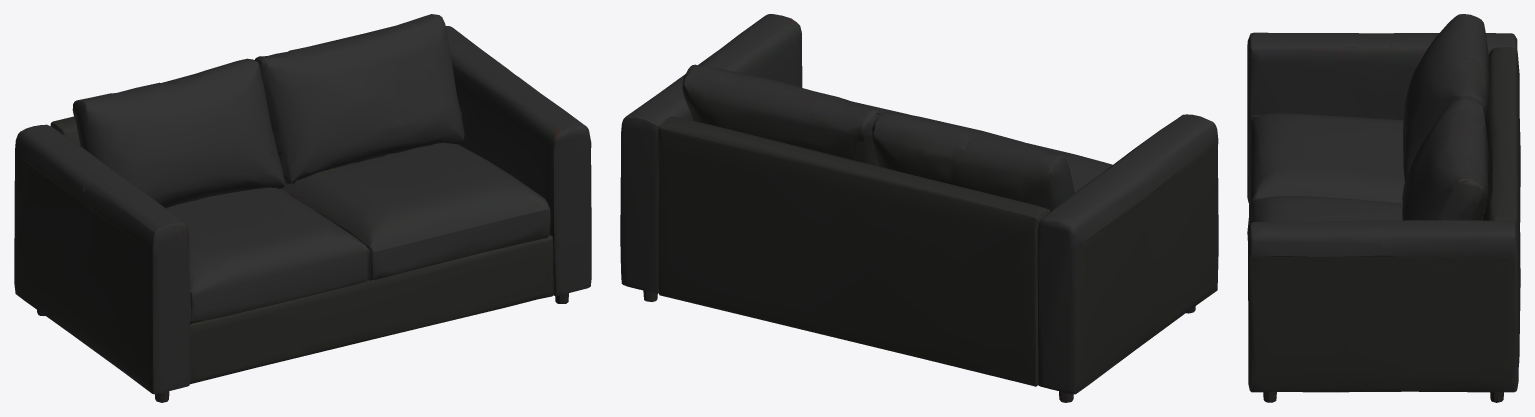
Rendered from 36 - VIMLE - 雙人座沙發，GrannBomstad 黑色 IKEA 線上購物.glb.
The picture shows the model from 3 angles, left to right: view 1: azimuth 30°, elevation 25°; view 2: azimuth 150°, elevation 25°; view 3: azimuth 270°, elevation 25°; orthographic projection. The views are drawn at different scales.
Parts seen in each view (by area): view 1: ProcessedMeshNode; view 2: ProcessedMeshNode; view 3: ProcessedMeshNode.
Part boxes in pixels (left/top/right/bottom): ProcessedMeshNode: left=14, top=14, right=591, bottom=402; ProcessedMeshNode: left=620, top=14, right=1218, bottom=402; ProcessedMeshNode: left=1247, top=14, right=1520, bottom=402.
Size of the model in its own units: 1.71 by 0.8063 by 0.9471.
2 materials, 2 textured.
